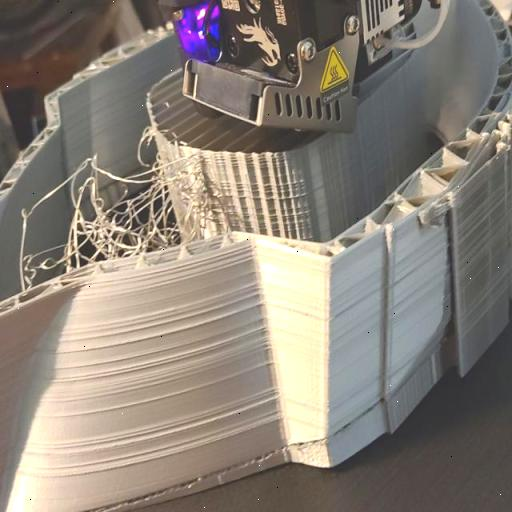spaghetti: (10, 139, 222, 299)
